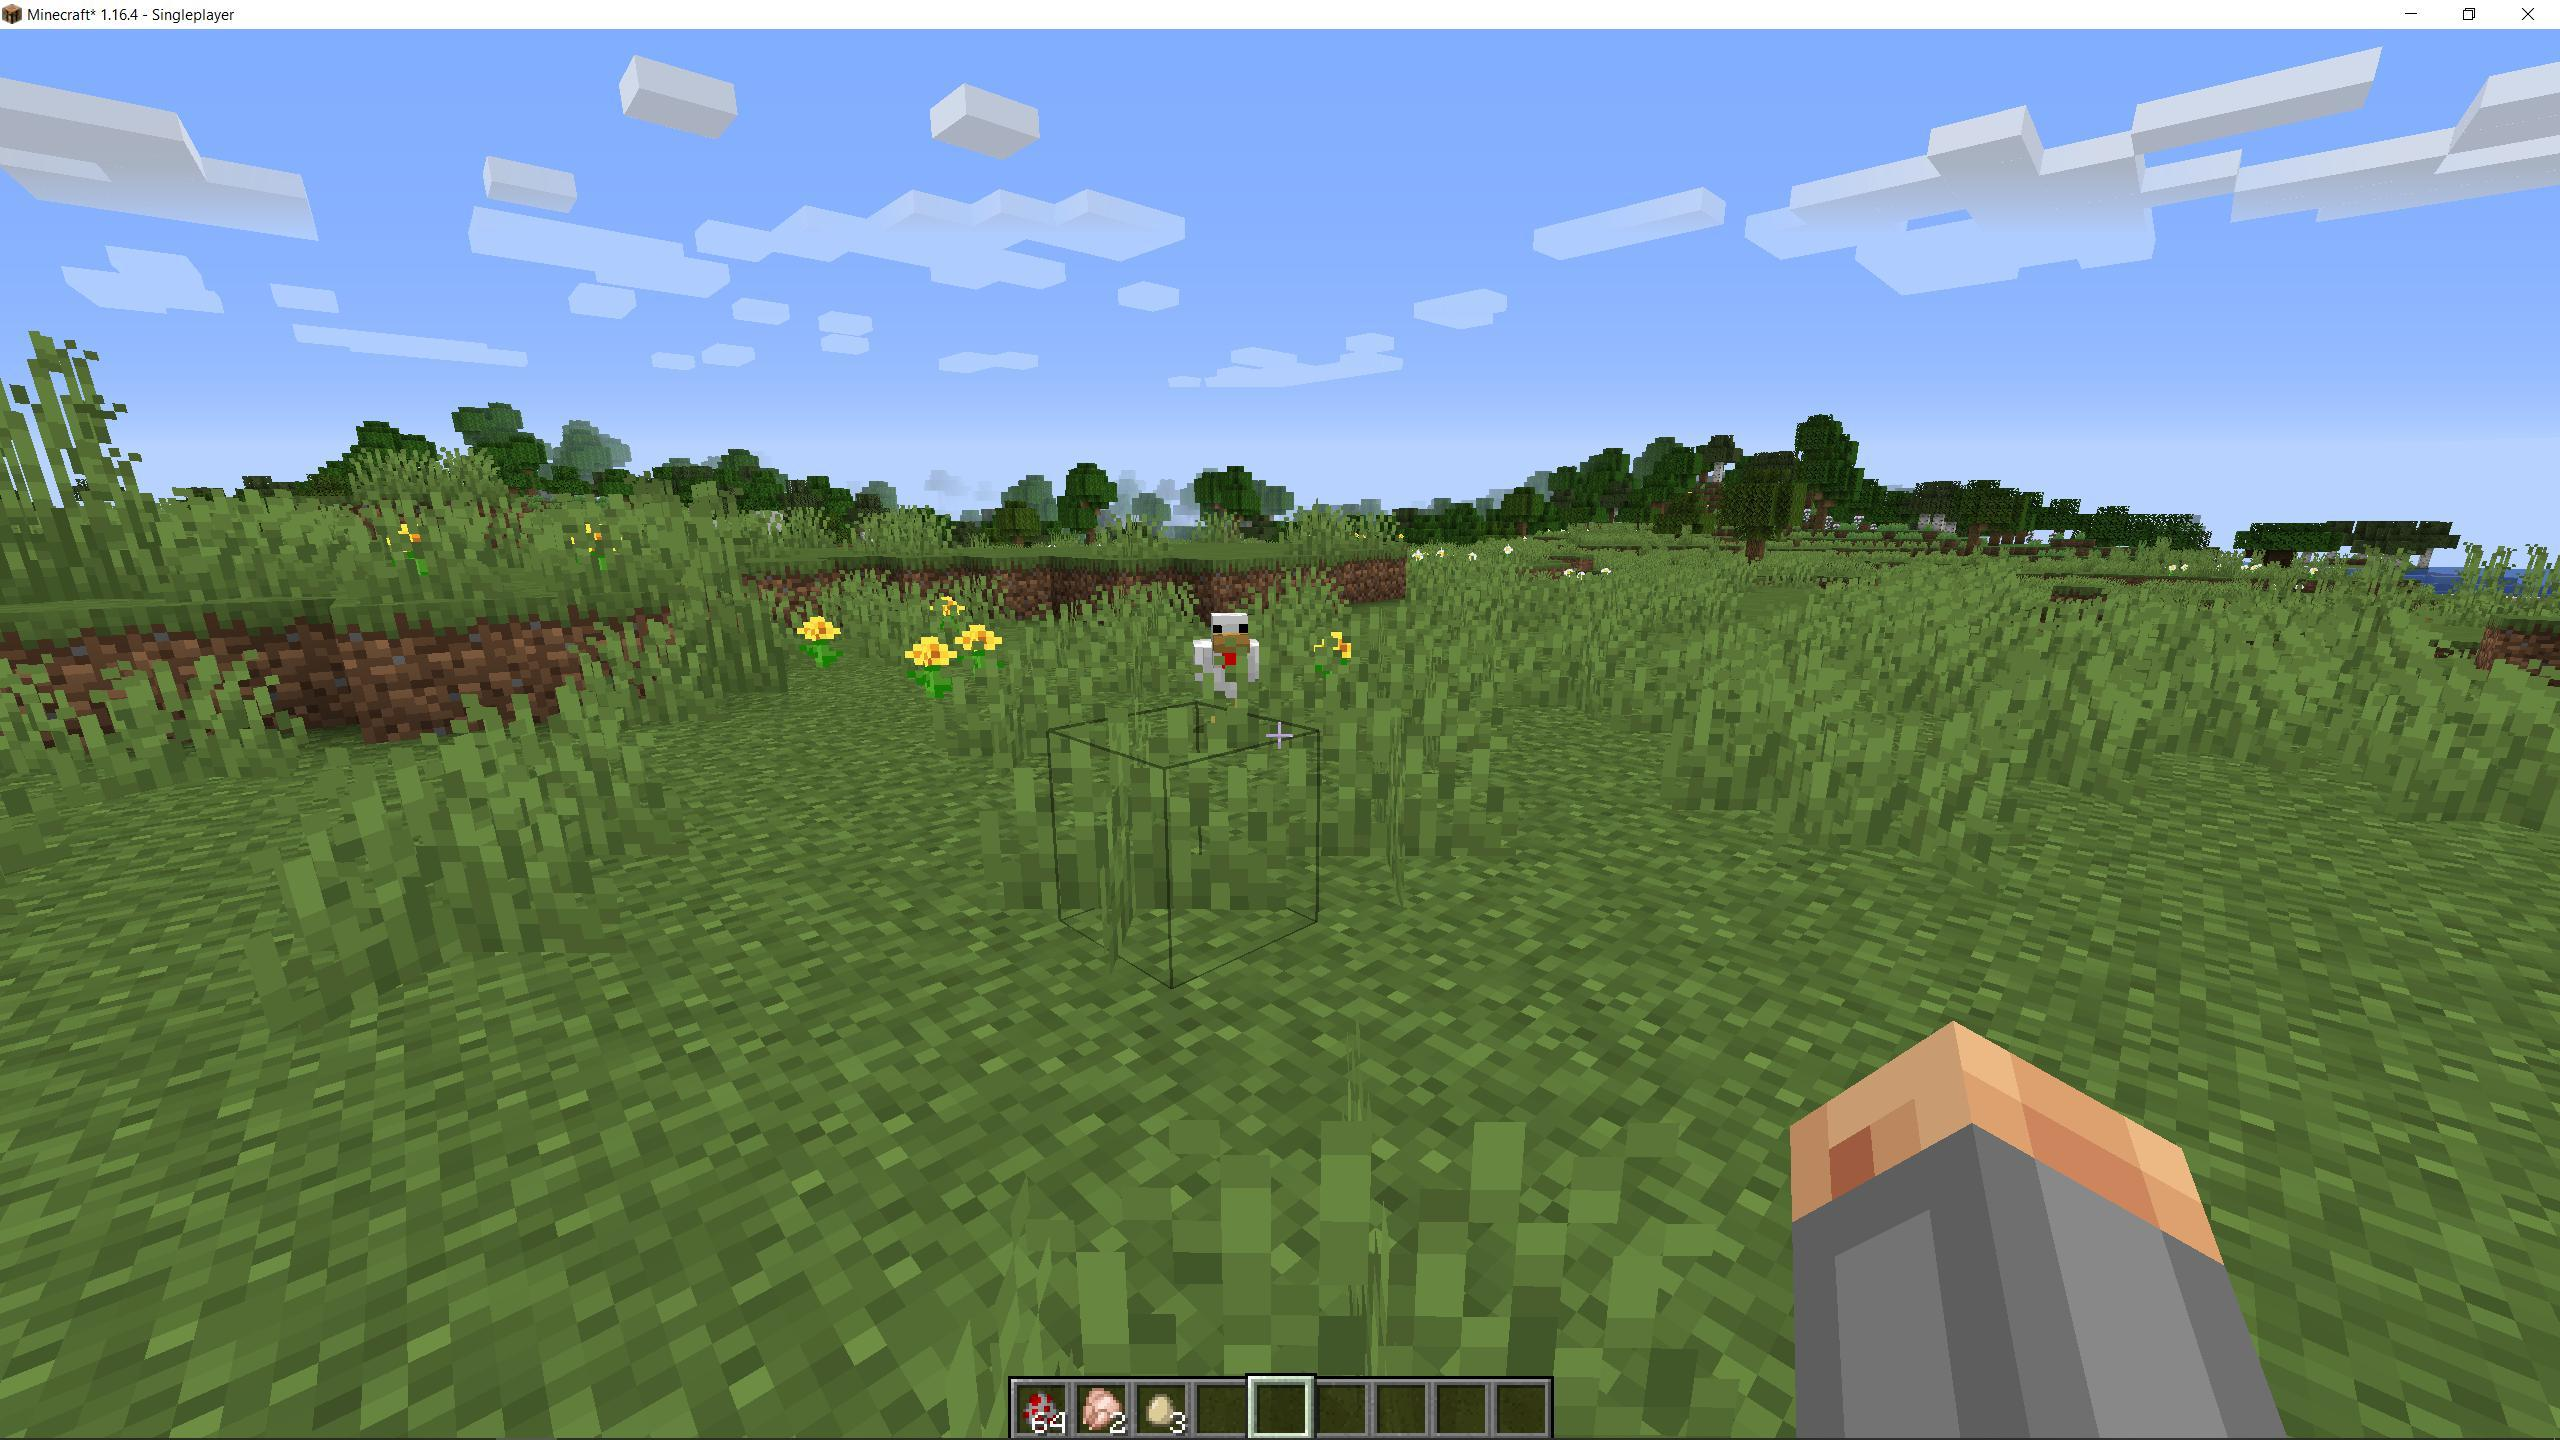chicken: (1180, 605, 1276, 735)
